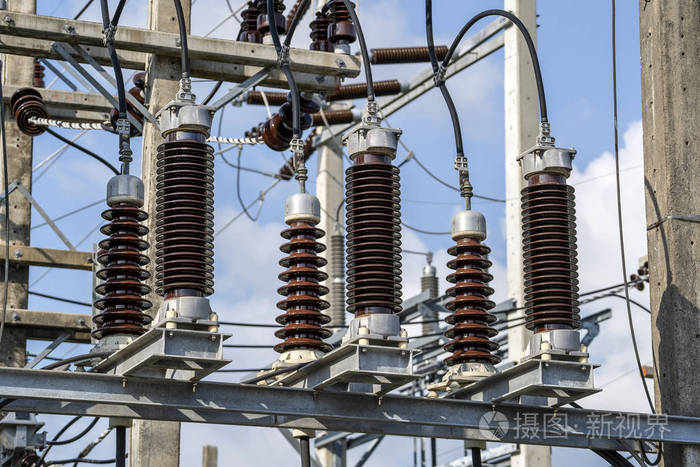insulator: (262, 91, 321, 150)
